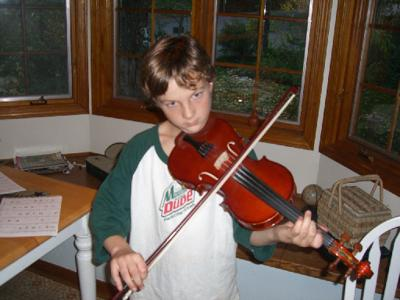person: (91, 35, 333, 300)
